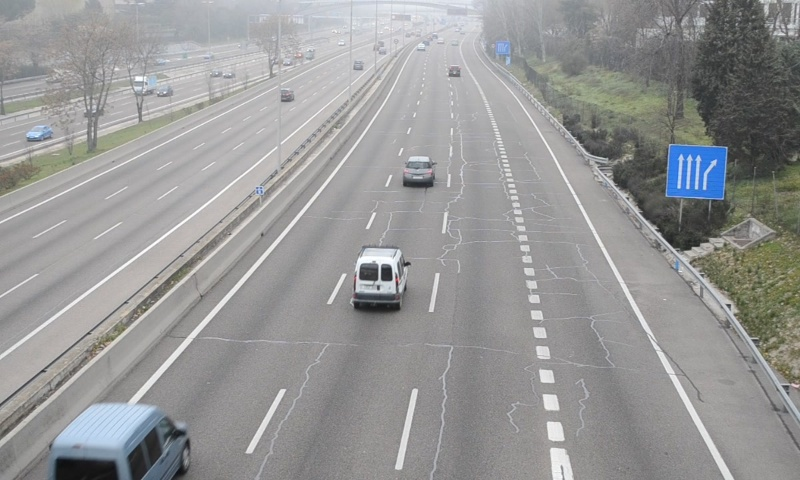car: (402, 156, 435, 186)
van: (43, 404, 190, 480), (353, 247, 406, 305)
